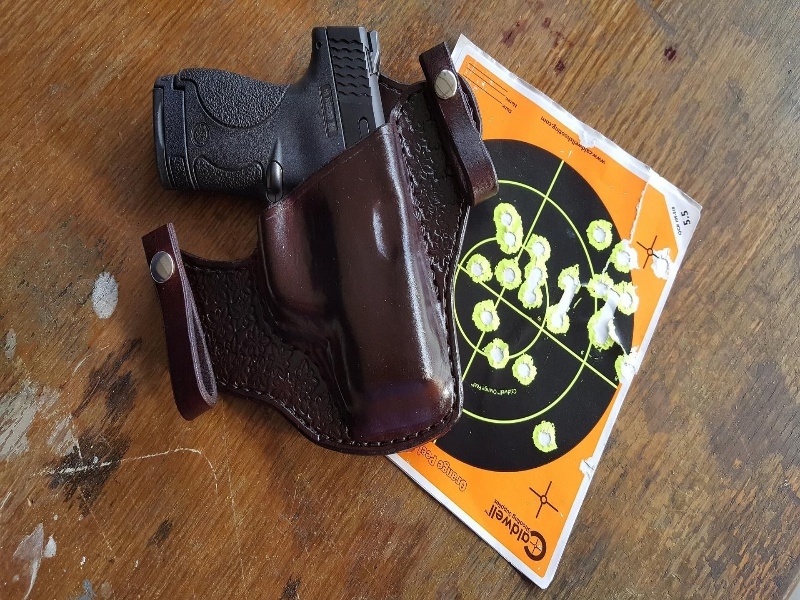gun: (145, 29, 471, 425)
